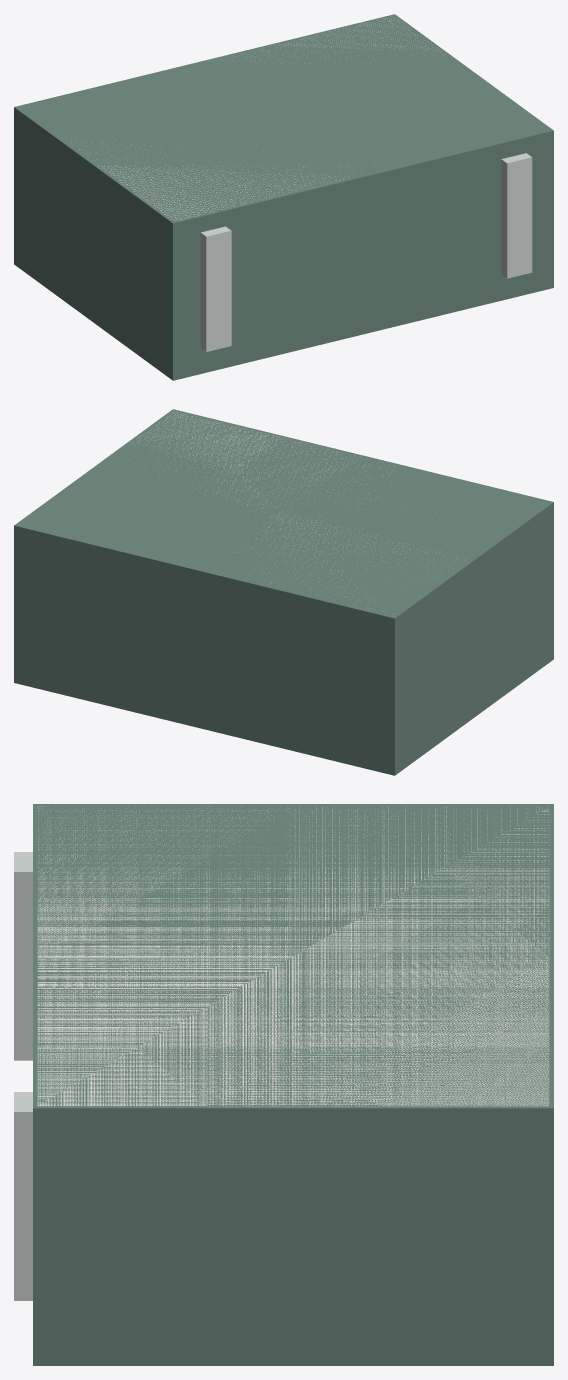
The model's file is s7-f-t02-empty-crate.glb.
3 renders of one model, top to bottom at view 1: azimuth 30°, elevation 25°; view 2: azimuth 150°, elevation 25°; view 3: azimuth 270°, elevation 25°, orthographic. The views are drawn at different scales.
Parts seen in each view (by area): view 1: crate_001, latch_004, latch_003, cratecover_002; view 2: crate_001, cratecover_002; view 3: crate_001, cratecover_002, latch_003, latch_004.
Boxes of the visible parts, x1=… form: crate_001: x1=14, y1=14, x2=553, y2=380; latch_004: x1=501, y1=153, x2=532, y2=278; latch_003: x1=200, y1=226, x2=231, y2=351; cratecover_002: x1=79, y1=18, x2=439, y2=220; crate_001: x1=14, y1=409, x2=553, y2=775; cratecover_002: x1=131, y1=411, x2=439, y2=597; crate_001: x1=33, y1=804, x2=553, y2=1365; cratecover_002: x1=37, y1=806, x2=549, y2=1106; latch_003: x1=14, y1=852, x2=32, y2=1060; latch_004: x1=14, y1=1092, x2=32, y2=1300.
Size of the model in its own units: 0.76 by 0.3 by 0.57.
